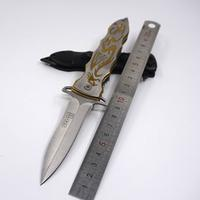knife: (36, 14, 133, 191)
